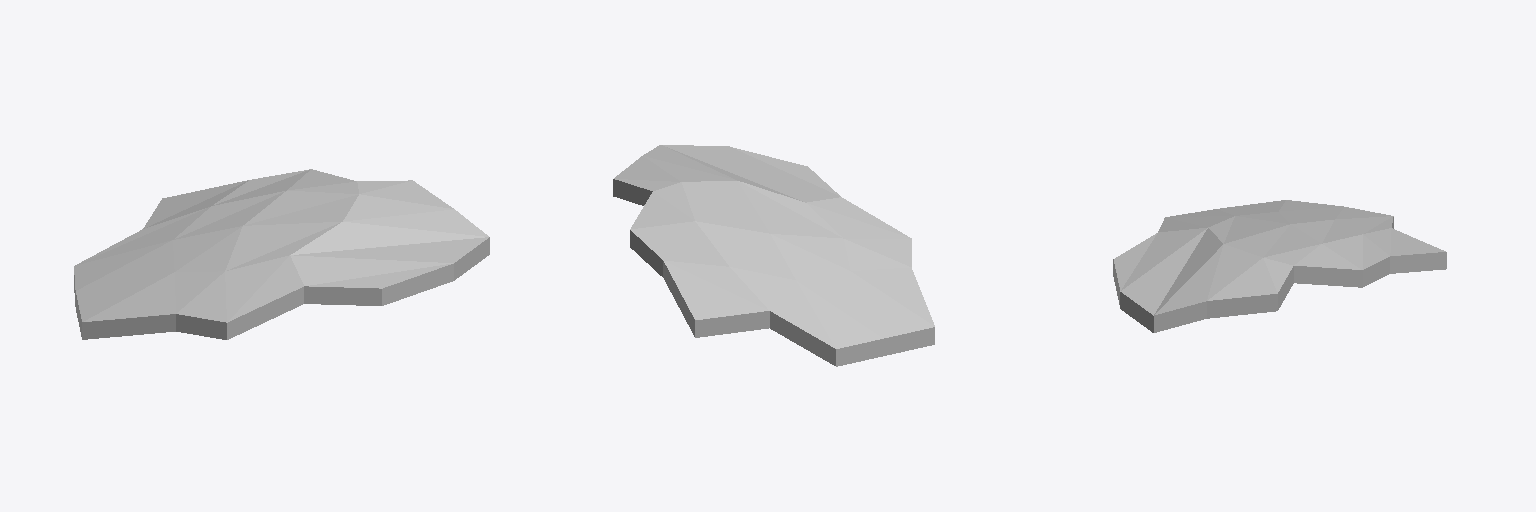
File: pod_chunk.obj
3 renders of one model, left to right at view 1: azimuth 30°, elevation 25°; view 2: azimuth 150°, elevation 25°; view 3: azimuth 270°, elevation 25°, orthographic.
Visible parts, largest first — view 1: pod_chunk.obj; view 2: pod_chunk.obj; view 3: pod_chunk.obj.
Boxes of the visible parts, x1=… form: pod_chunk.obj: x1=74, y1=169, x2=489, y2=339; pod_chunk.obj: x1=613, y1=145, x2=934, y2=366; pod_chunk.obj: x1=1113, y1=200, x2=1446, y2=332.
Size of the model in its own units: 1.62 by 0.4055 by 1.37.